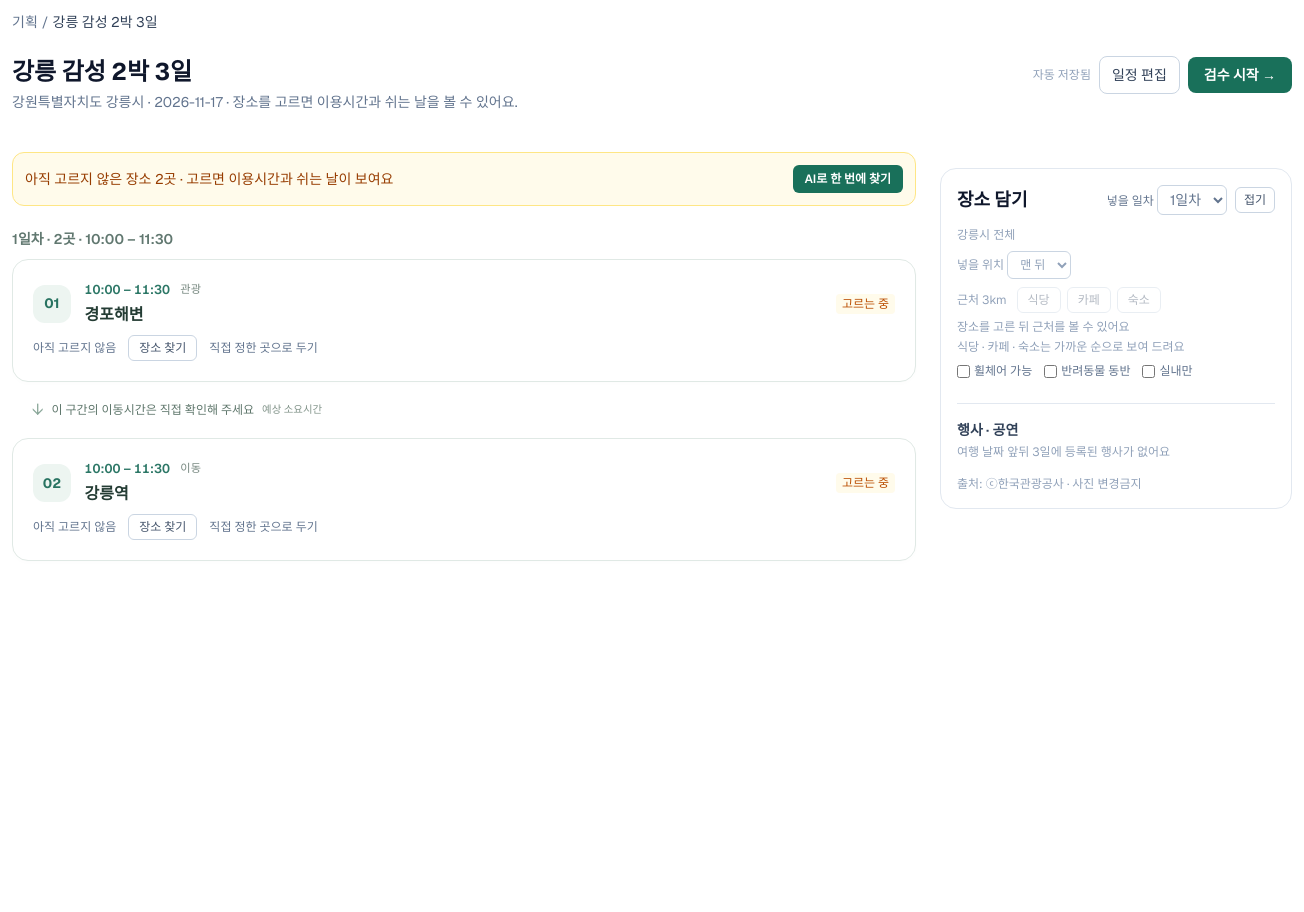
Test case: 고르지 않은 줄 (UI-S2-034 · UI-S2-023) › 🔴 줄 아래에는 「아직 고르지 않음」 과 두 버튼만 있고, 카드가 다루는 줄은 두 버튼을 숨긴다
Click the button "AI로 한 번에 찾기" at x=848, y=179, box top-left (793, 165), bottom-right (903, 193)
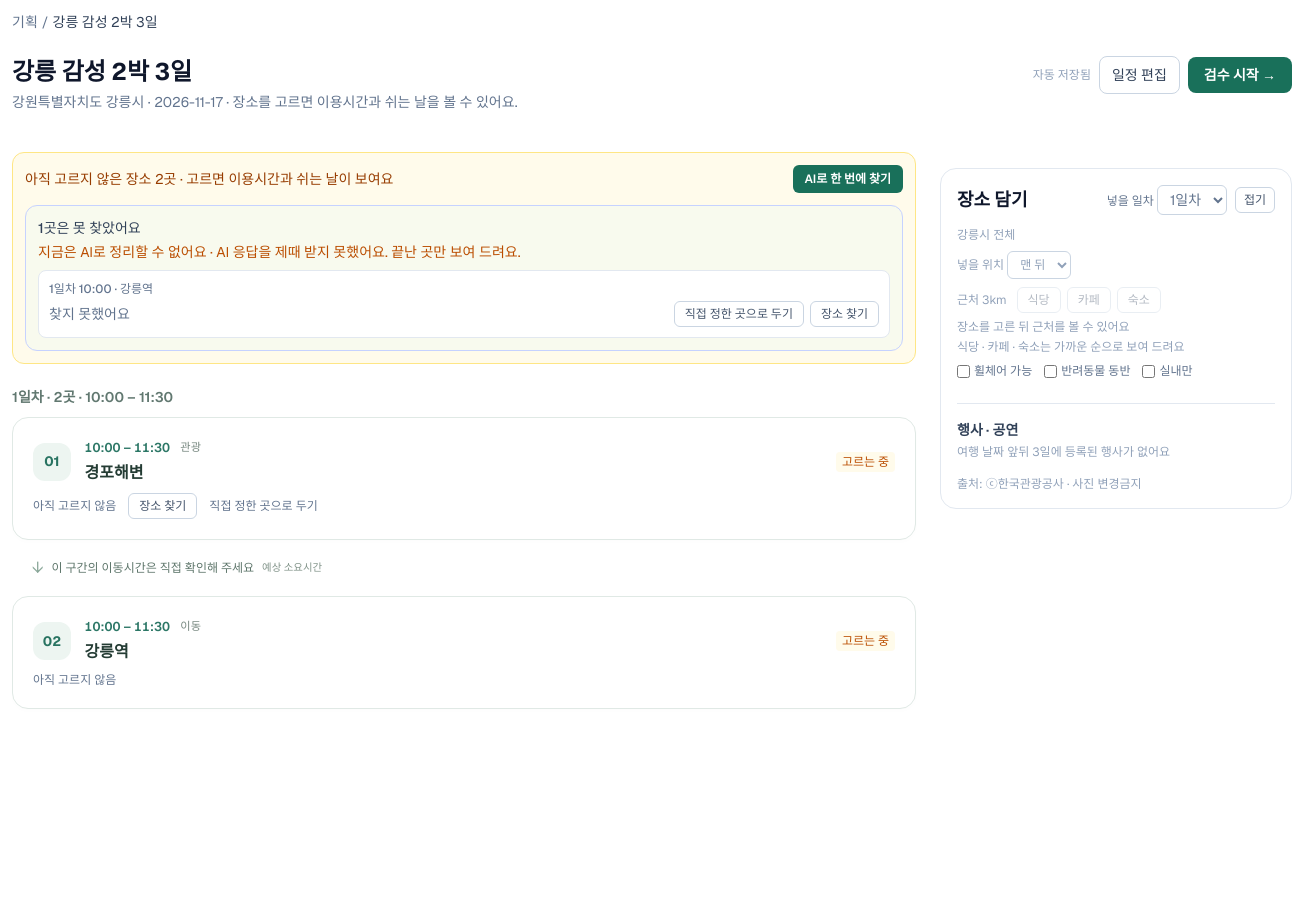
Expected: the text "지금은 AI로 정리할 수 없어요" is shown, top-left (38, 243), bottom-right (216, 261)
